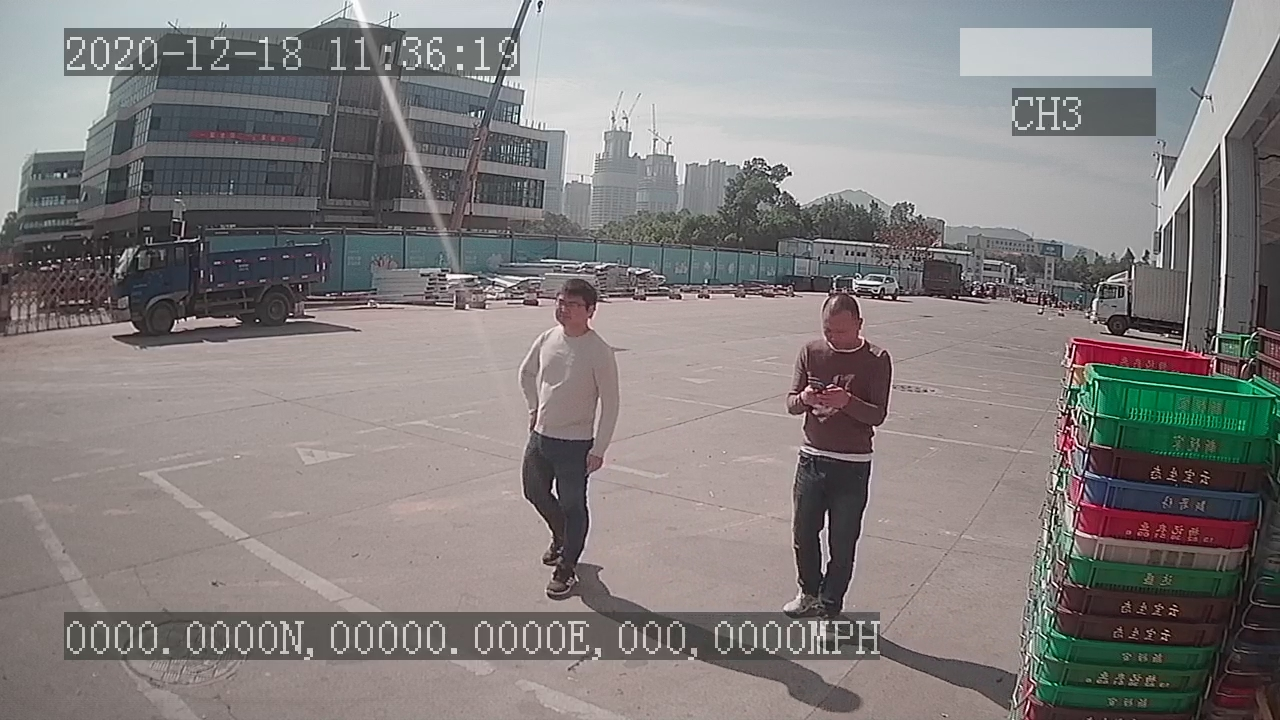person: (516, 279, 621, 599)
